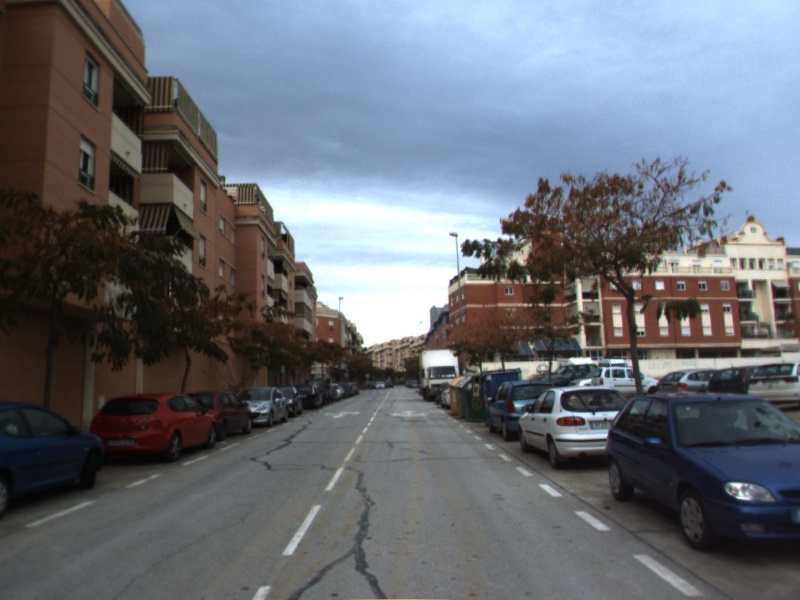STRAIGHT_LEFT_RIGHT: (388, 407, 432, 419)
